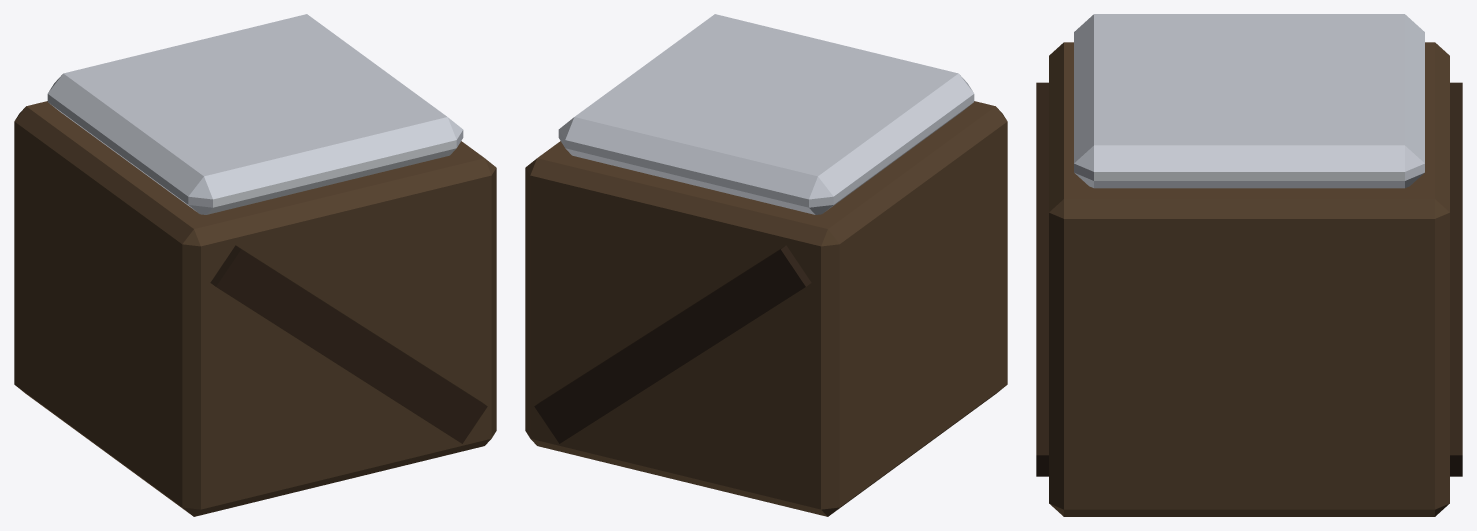
The model's file is village_crate.glb.
3 renders of one model, left to right at view 1: azimuth 30°, elevation 25°; view 2: azimuth 150°, elevation 25°; view 3: azimuth 270°, elevation 25°, orthographic. The views are drawn at different scales.
Visible parts, largest first — view 1: village_crate; view 2: village_crate; view 3: village_crate.
Part boxes in pixels (x1=…): village_crate: x1=14, y1=14, x2=496, y2=516; village_crate: x1=525, y1=14, x2=1007, y2=516; village_crate: x1=1036, y1=14, x2=1462, y2=516.
Bounding box in the file's own units: 0.8 × 0.79 × 0.85.
